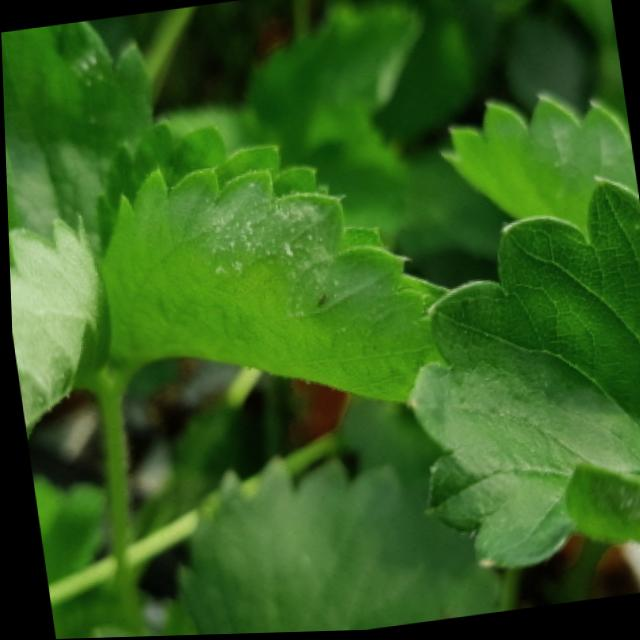Powdery Mildew Leaf: (93, 118, 456, 404), (402, 176, 640, 573), (1, 21, 155, 262)
